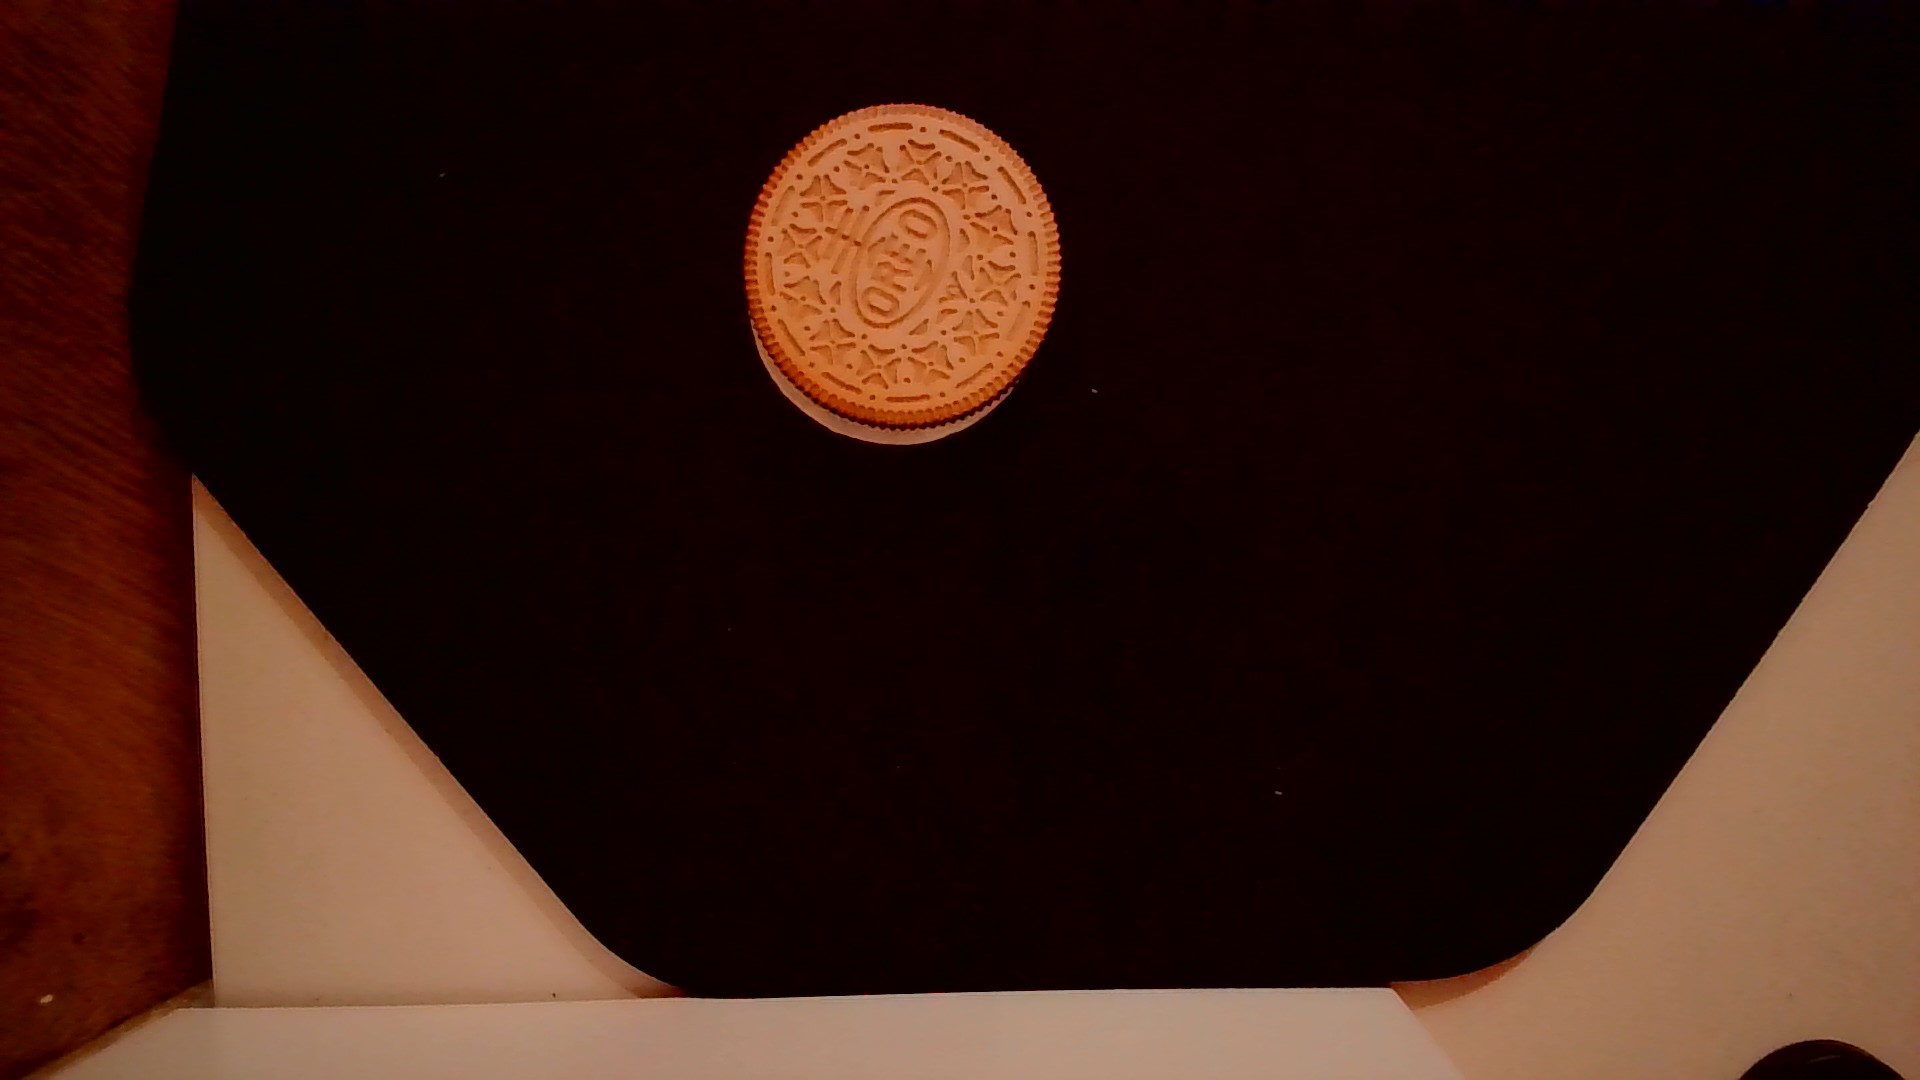Décalé: (746, 307, 1019, 452)
Oréo: (738, 94, 1065, 438)
